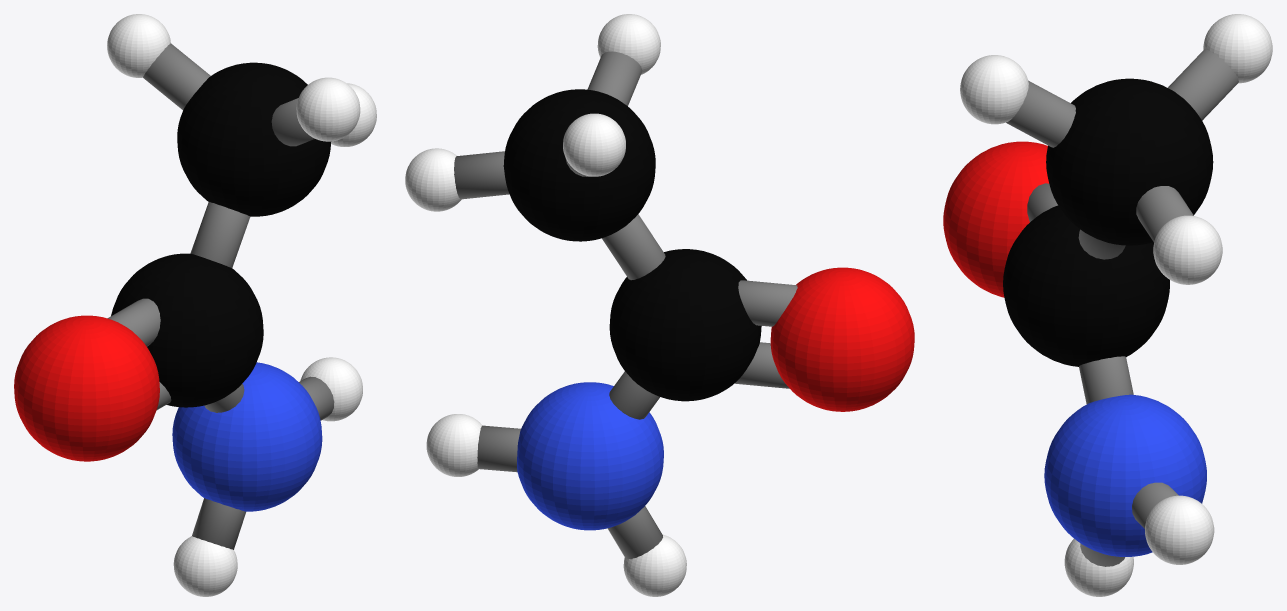
The model's file is ACETAMIDA.obj.
The picture shows the model from 3 angles, left to right: view 1: azimuth 30°, elevation 25°; view 2: azimuth 150°, elevation 25°; view 3: azimuth 270°, elevation 25°; orthographic projection. The views are drawn at different scales.
Visible parts, largest first — view 1: Carbon_ball_Sphere.002, Oxygen_ball_Sphere.003, Nitrogen_ball_Sphere, Hydrogen_ball_Sphere.001, Stick_Cylinder.005_Cylinder.005, Stick_Cylinder.003_Cylinder.003, Stick_Cylinder.001_Cylinder.001, Stick_Cylinder.007_Cylinder.007, Stick_Cylinder.006_Cylinder.006, Stick_Cylinder.002_Cylinder.002, Stick_Cylinder_Cylinder; view 2: Carbon_ball_Sphere.002, Nitrogen_ball_Sphere, Oxygen_ball_Sphere.003, Hydrogen_ball_Sphere.001, Stick_Cylinder.005_Cylinder.005, Stick_Cylinder.004_Cylinder.004, Stick_Cylinder.007_Cylinder.007, Stick_Cylinder.006_Cylinder.006, Stick_Cylinder.002_Cylinder.002, Stick_Cylinder.001_Cylinder.001, Stick_Cylinder_Cylinder, Stick_Cylinder.008_Cylinder.008; view 3: Carbon_ball_Sphere.002, Nitrogen_ball_Sphere, Hydrogen_ball_Sphere.001, Oxygen_ball_Sphere.003, Stick_Cylinder.003_Cylinder.003, Stick_Cylinder.006_Cylinder.006, Stick_Cylinder_Cylinder, Stick_Cylinder.004_Cylinder.004, Stick_Cylinder.002_Cylinder.002, Stick_Cylinder.005_Cylinder.005, Stick_Cylinder.007_Cylinder.007, Stick_Cylinder.001_Cylinder.001.
Boxes of the visible parts, bbox=[...] form: Carbon_ball_Sphere.002: bbox=[111, 62, 330, 407]; Oxygen_ball_Sphere.003: bbox=[14, 315, 159, 461]; Nitrogen_ball_Sphere: bbox=[172, 362, 322, 511]; Hydrogen_ball_Sphere.001: bbox=[107, 14, 376, 596]; Stick_Cylinder.005_Cylinder.005: bbox=[190, 202, 250, 267]; Stick_Cylinder.003_Cylinder.003: bbox=[143, 43, 210, 110]; Stick_Cylinder.001_Cylinder.001: bbox=[192, 498, 245, 549]; Stick_Cylinder.007_Cylinder.007: bbox=[107, 298, 160, 346]; Stick_Cylinder.006_Cylinder.006: bbox=[271, 98, 314, 146]; Stick_Cylinder.002_Cylinder.002: bbox=[299, 376, 334, 420]; Stick_Cylinder_Cylinder: bbox=[204, 383, 244, 412]; Carbon_ball_Sphere.002: bbox=[503, 89, 761, 401]; Nitrogen_ball_Sphere: bbox=[517, 382, 663, 530]; Oxygen_ball_Sphere.003: bbox=[770, 267, 914, 411]; Hydrogen_ball_Sphere.001: bbox=[405, 14, 686, 596]; Stick_Cylinder.005_Cylinder.005: bbox=[602, 214, 665, 280]; Stick_Cylinder.004_Cylinder.004: bbox=[454, 151, 509, 199]; Stick_Cylinder.007_Cylinder.007: bbox=[738, 280, 797, 326]; Stick_Cylinder.006_Cylinder.006: bbox=[587, 51, 642, 105]; Stick_Cylinder.002_Cylinder.002: bbox=[477, 425, 520, 472]; Stick_Cylinder.001_Cylinder.001: bbox=[607, 506, 662, 559]; Stick_Cylinder_Cylinder: bbox=[609, 371, 659, 419]; Stick_Cylinder.008_Cylinder.008: bbox=[734, 342, 789, 388]; Carbon_ball_Sphere.002: bbox=[1003, 78, 1213, 366]; Nitrogen_ball_Sphere: bbox=[1044, 394, 1206, 556]; Hydrogen_ball_Sphere.001: bbox=[960, 14, 1272, 596]; Oxygen_ball_Sphere.003: bbox=[943, 141, 1048, 297]; Stick_Cylinder.003_Cylinder.003: bbox=[1168, 49, 1238, 120]; Stick_Cylinder.006_Cylinder.006: bbox=[1006, 80, 1075, 147]; Stick_Cylinder_Cylinder: bbox=[1079, 356, 1133, 404]; Stick_Cylinder.004_Cylinder.004: bbox=[1136, 186, 1193, 242]; Stick_Cylinder.002_Cylinder.002: bbox=[1132, 482, 1178, 528]; Stick_Cylinder.005_Cylinder.005: bbox=[1078, 229, 1125, 259]; Stick_Cylinder.007_Cylinder.007: bbox=[1027, 183, 1057, 221]; Stick_Cylinder.001_Cylinder.001: bbox=[1080, 543, 1125, 566].
Size of the model in its own units: 4.41 by 5.26 by 2.73.
